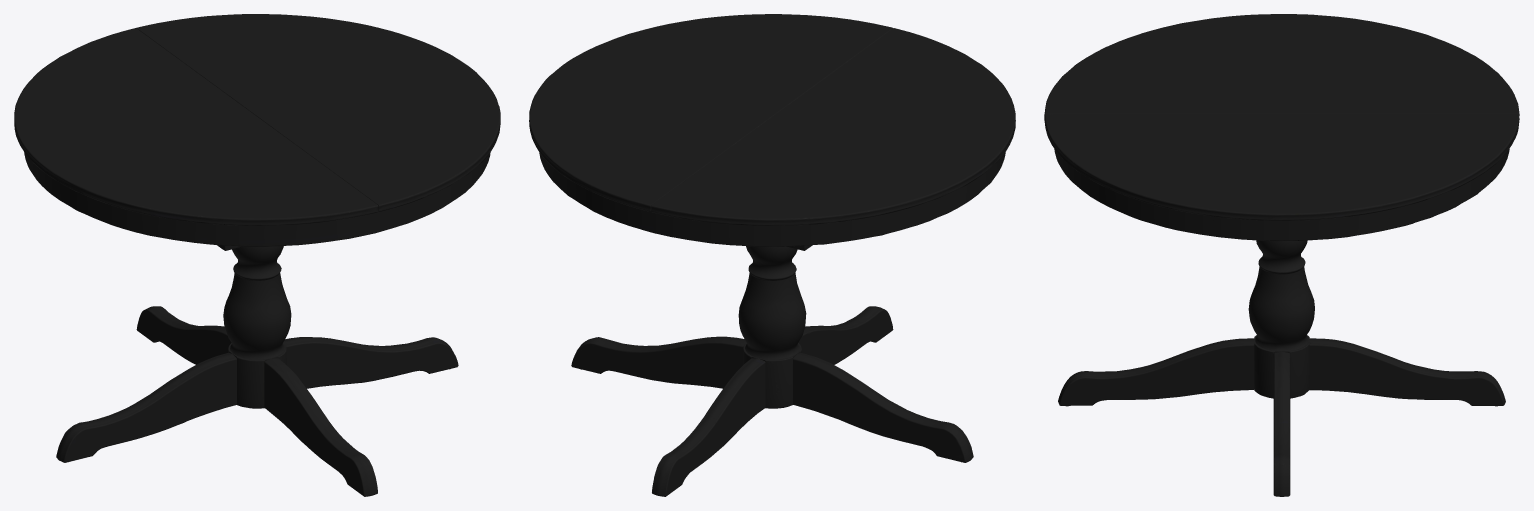
3 renders of one model, left to right at view 1: azimuth 30°, elevation 25°; view 2: azimuth 150°, elevation 25°; view 3: azimuth 270°, elevation 25°, orthographic. The views are drawn at different scales.
Parts seen in each view (by area): view 1: model; view 2: model; view 3: model.
Part boxes in pixels (<box>): model: <box>14,14,500,496</box>; model: <box>529,14,1015,496</box>; model: <box>1044,14,1519,496</box>.
Bounding box in the file's own units: 1.1 × 0.7432 × 1.1.
Materials: 1 (1 with a texture image).
